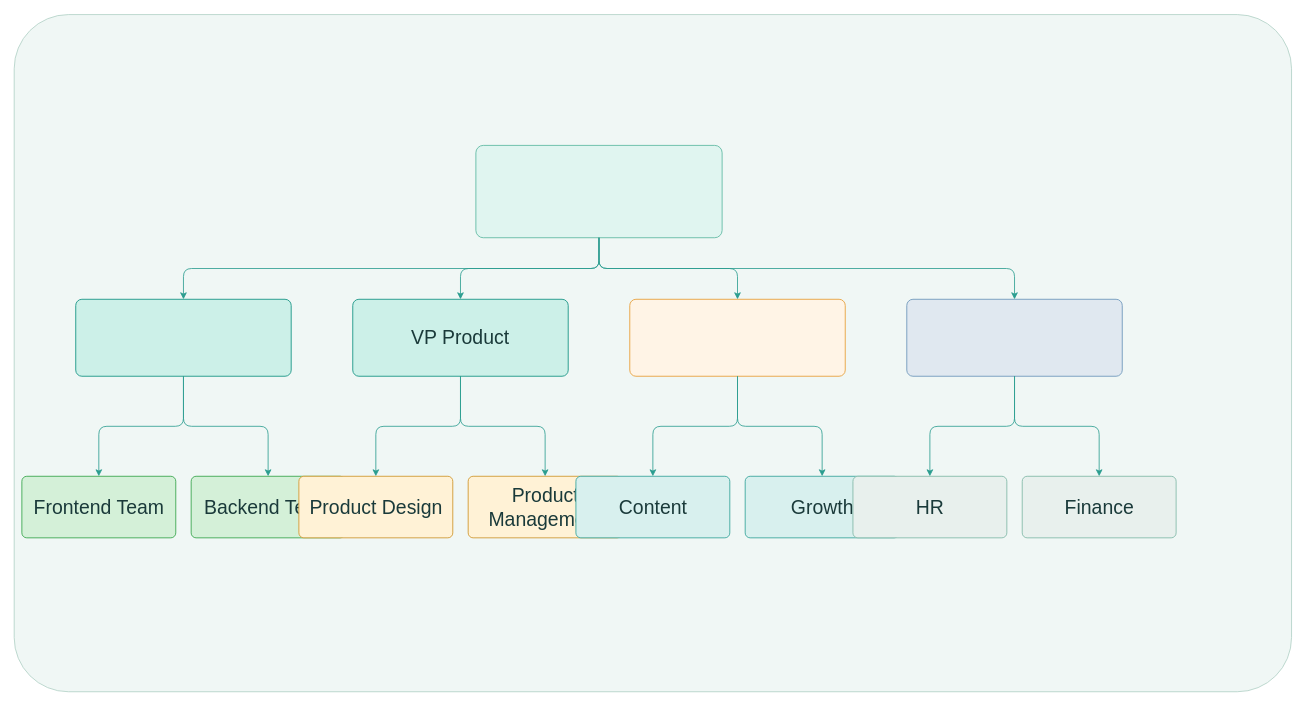
The diagram is 1306 pixels wide and 706 high, and some of its shapes have lost their labels. Each missing label, with the box of its shape:
CEO: (475, 145, 722, 238)
VP Engineering: (75, 298, 291, 376)
VP Marketing: (629, 298, 845, 376)
VP Operations: (906, 298, 1122, 376)
